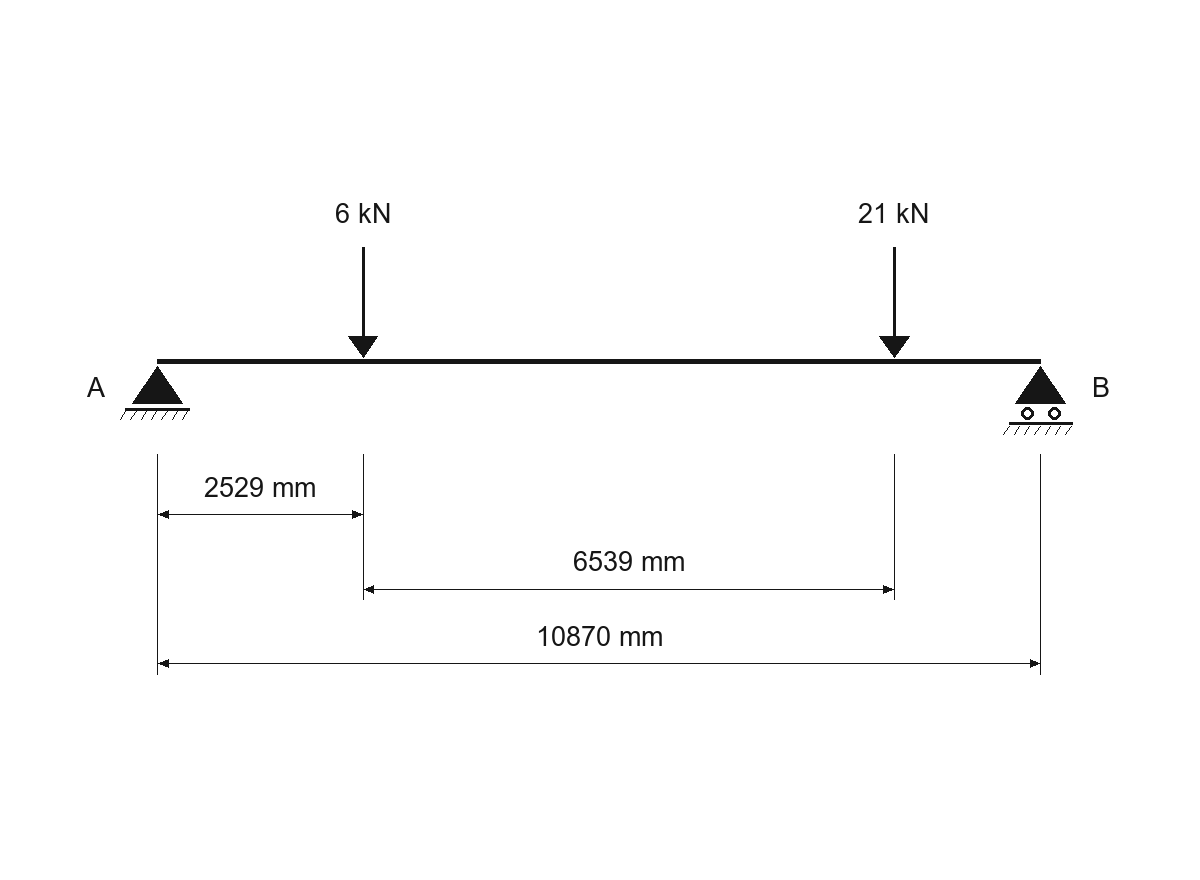pin_support: (120, 366, 190, 420)
point_load: (879, 247, 910, 358), (348, 247, 378, 358)
roller_support: (1003, 366, 1073, 435)
